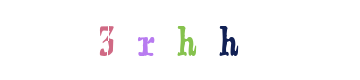3: (96, 0, 176, 80)
H: (146, 0, 226, 80), (188, 0, 268, 80)
R: (140, 0, 220, 80)
